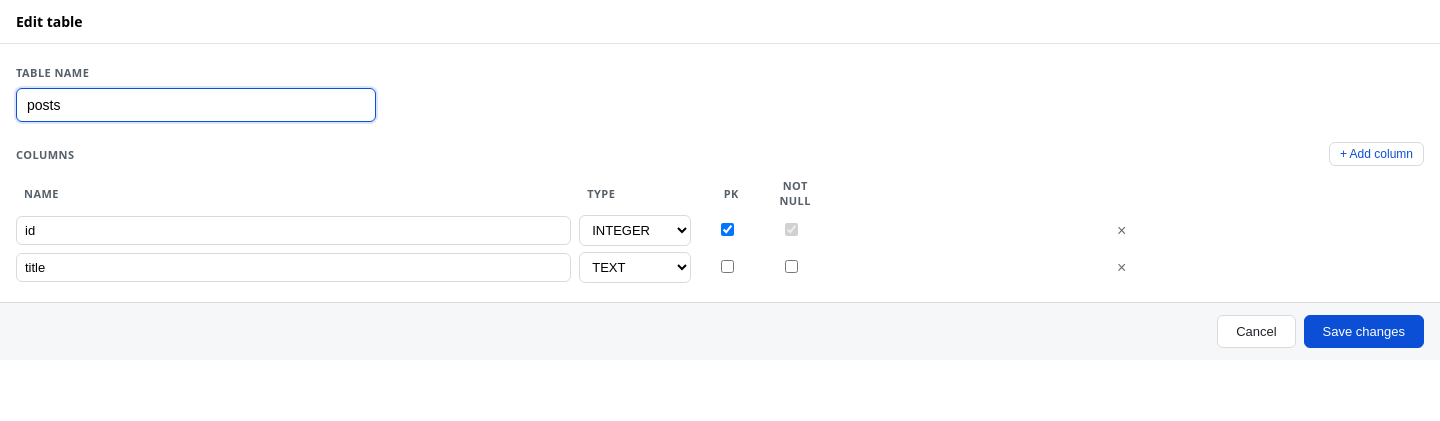
Scenario: TableForm (edit mode) › shows the server error when rebuilding fails
Expected: the text "Edit table" is shown, [0,0,1439,44]
Click the button "Save changes" at (1364,332), box [1304,315,1424,348]
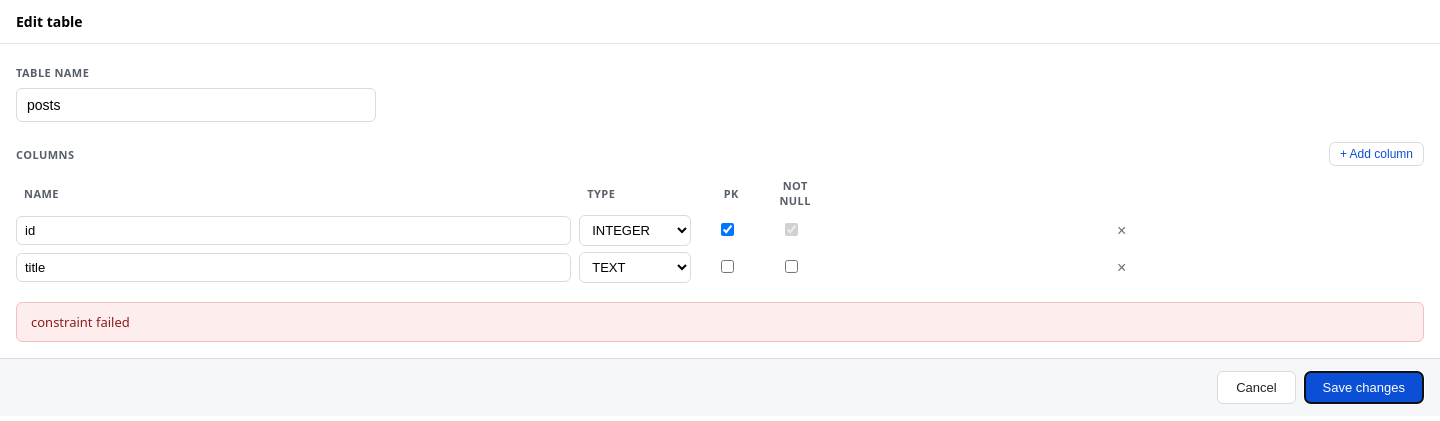
Result: the text "constraint failed" is shown at [16,302,1424,342]
